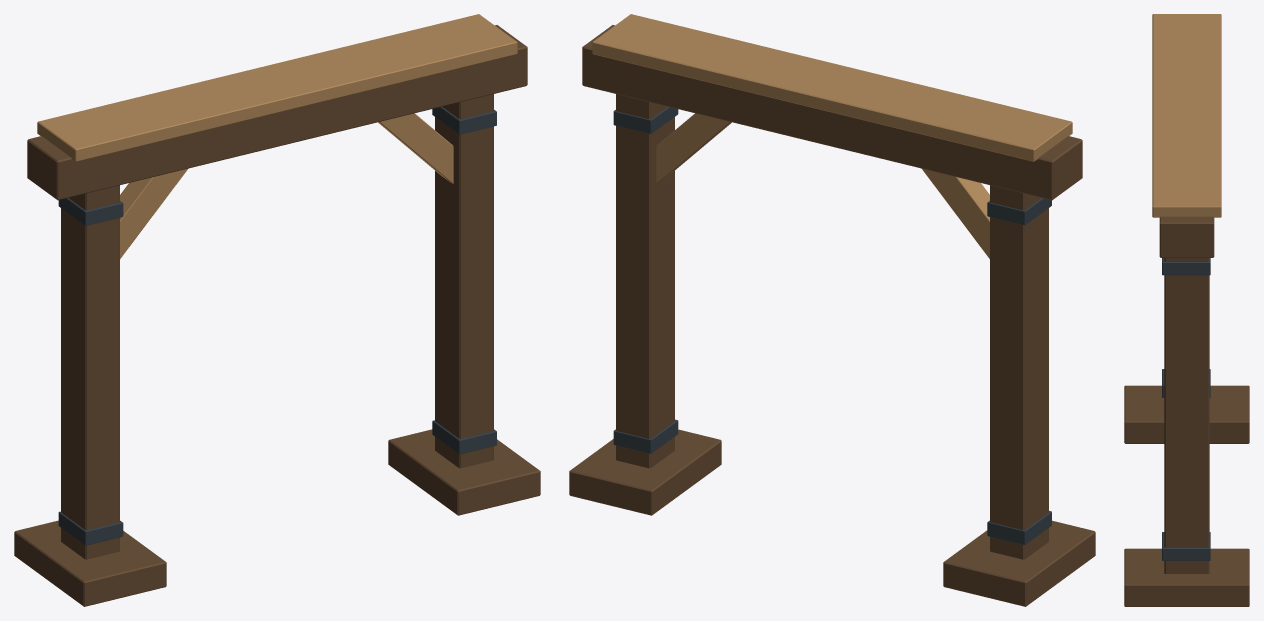
File: S012_timber_portal_rebuilt.glb
The picture shows the model from 3 angles, left to right: view 1: azimuth 30°, elevation 25°; view 2: azimuth 150°, elevation 25°; view 3: azimuth 270°, elevation 25°; orthographic projection. The views are drawn at different scales.
Parts seen in each view (by area): view 1: Dark_stained_structural_timber, Scenic_framing_warm_bare_timber, Dark_painted_steel; view 2: Dark_stained_structural_timber, Scenic_framing_warm_bare_timber, Dark_painted_steel; view 3: Dark_stained_structural_timber, Scenic_framing_warm_bare_timber, Dark_painted_steel.
Part boxes in pixels (x1,y1,x2,y2): Dark_stained_structural_timber: (14,25,540,606); Scenic_framing_warm_bare_timber: (37,14,517,258); Dark_painted_steel: (58,106,496,545); Dark_stained_structural_timber: (569,25,1095,606); Scenic_framing_warm_bare_timber: (592,14,1072,258); Dark_painted_steel: (613,106,1051,544); Dark_stained_structural_timber: (1124,216,1249,606); Scenic_framing_warm_bare_timber: (1152,14,1221,217); Dark_painted_steel: (1162,258,1210,560).
Size of the model in its own units: 3.1 by 2.8 by 0.8.
